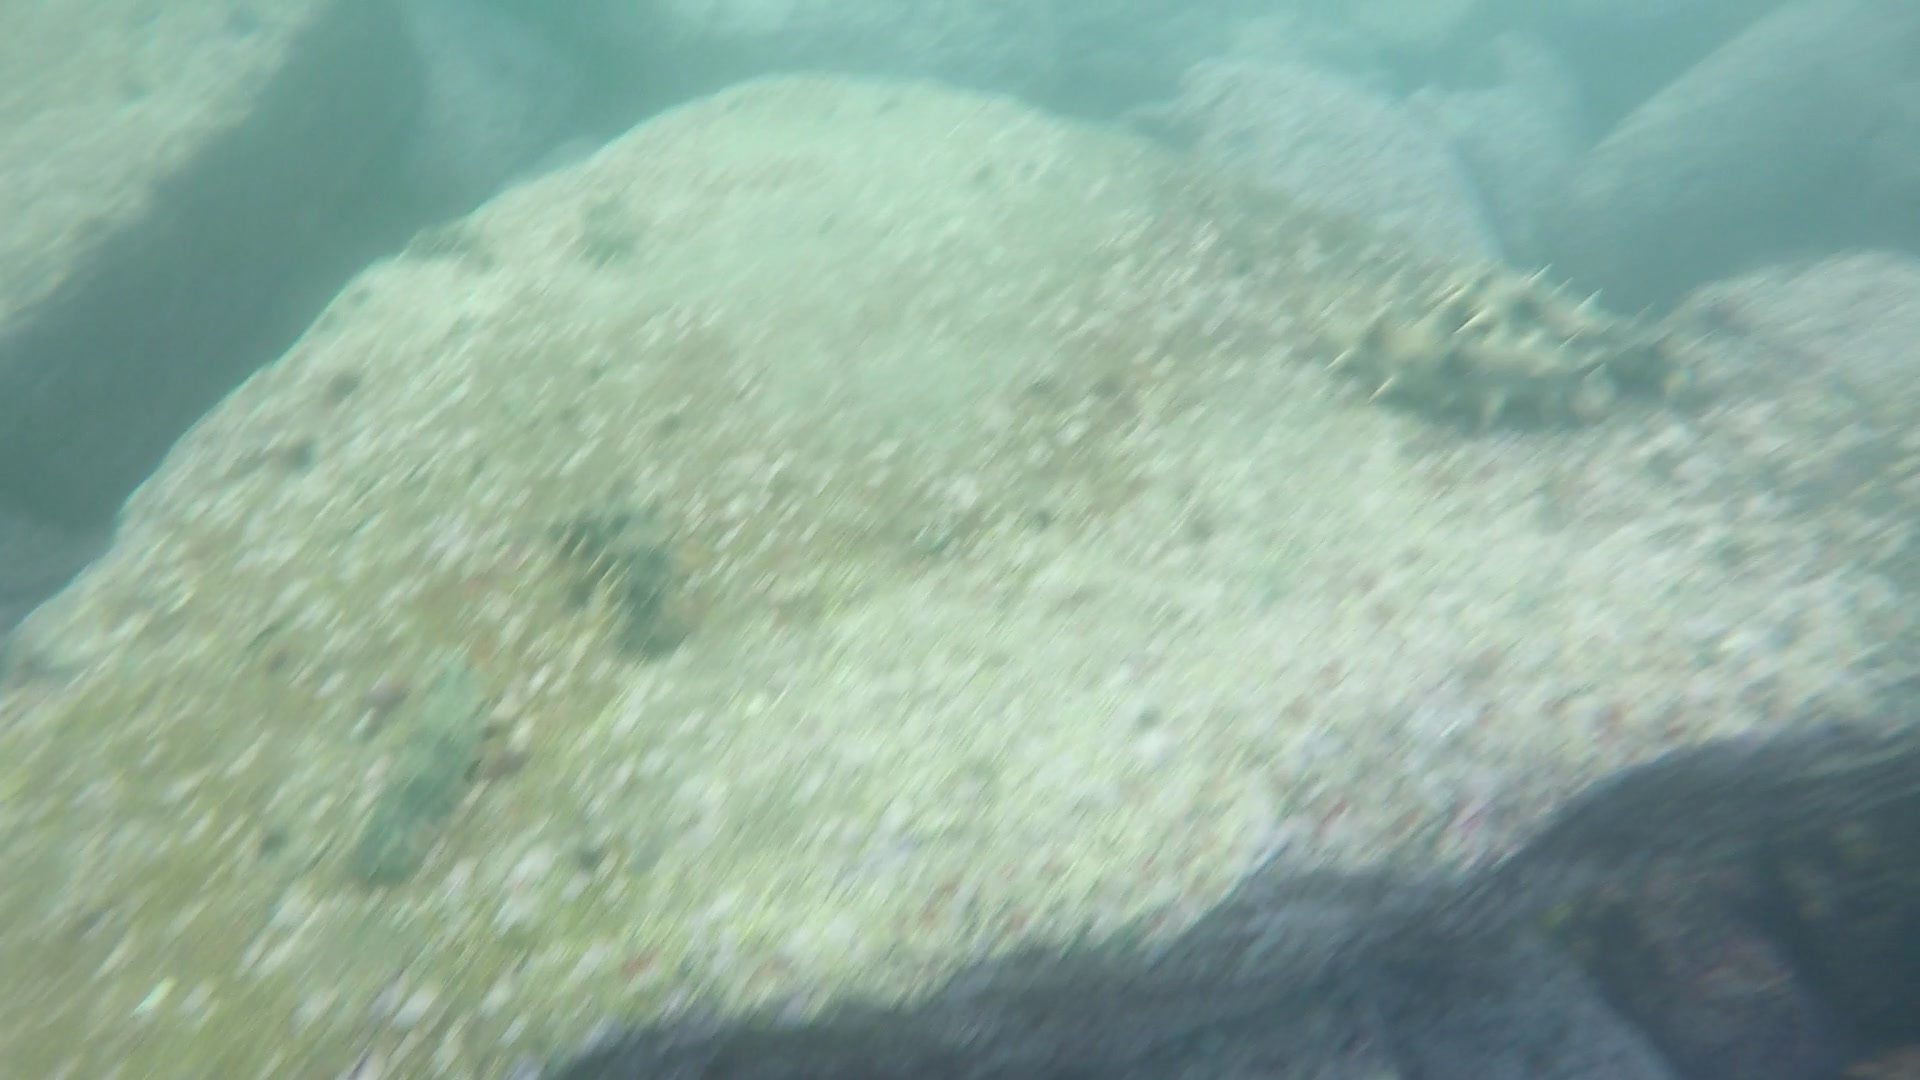holothurian: (1302, 306, 1615, 426), (1419, 255, 1693, 390), (348, 667, 488, 876), (549, 506, 695, 649), (404, 214, 502, 276), (564, 191, 647, 261)
